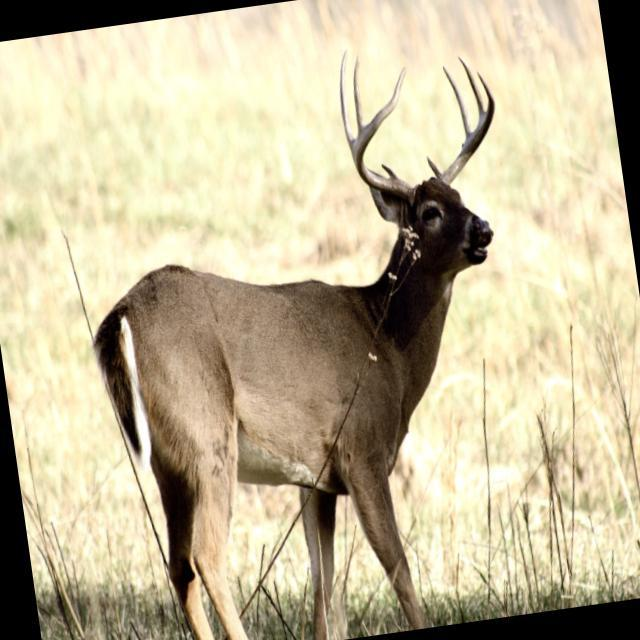L-G1: (427, 155, 444, 179)
L-G2: (442, 66, 472, 140)
L-G3: (458, 56, 485, 118)
R-F: (353, 66, 416, 208)
R-G1: (382, 164, 399, 178)
R-G2: (340, 50, 355, 151)
R-G3: (353, 56, 364, 133)
